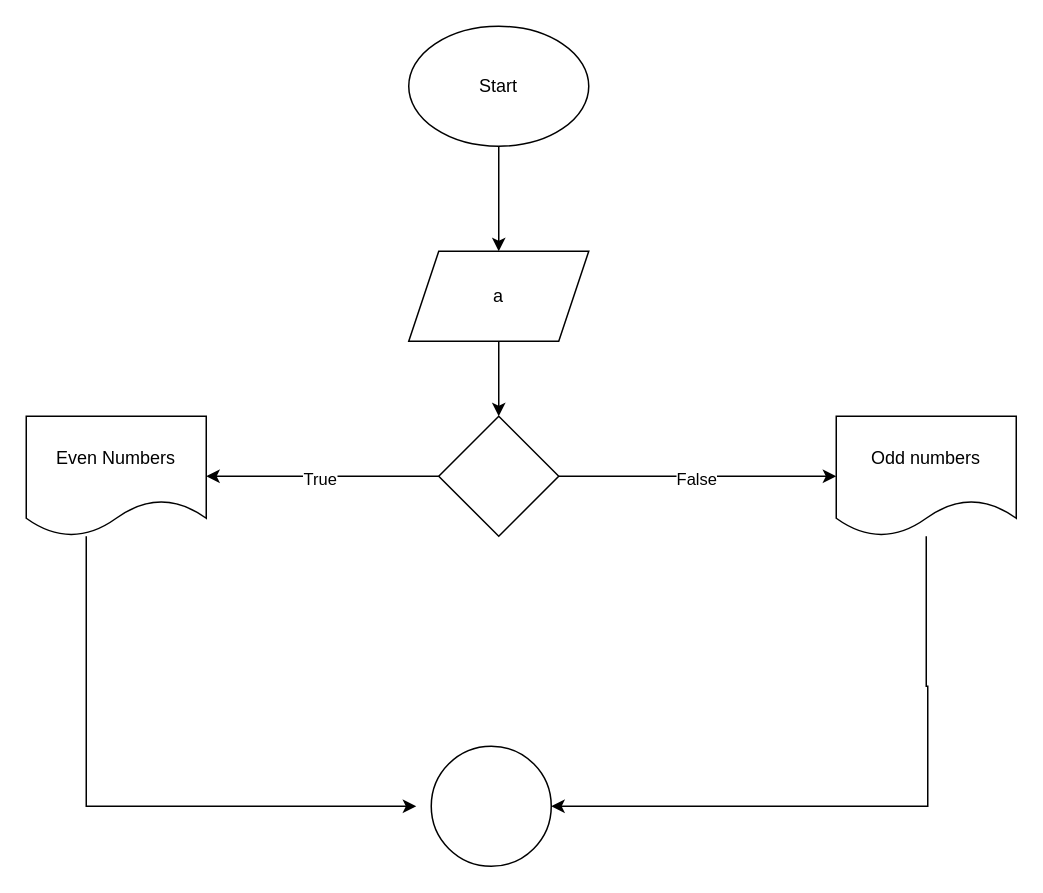
Image size: 1043x893. Some labels were removed from this diagram. The centre of each missing label's shape, as x and y in pixels:
a % 2 == 0: (498,475)
End: (490,805)
